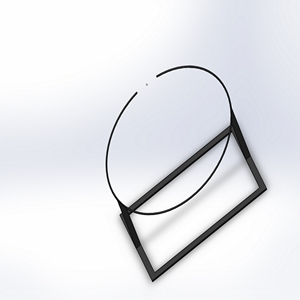circle: (103, 65, 268, 281)
